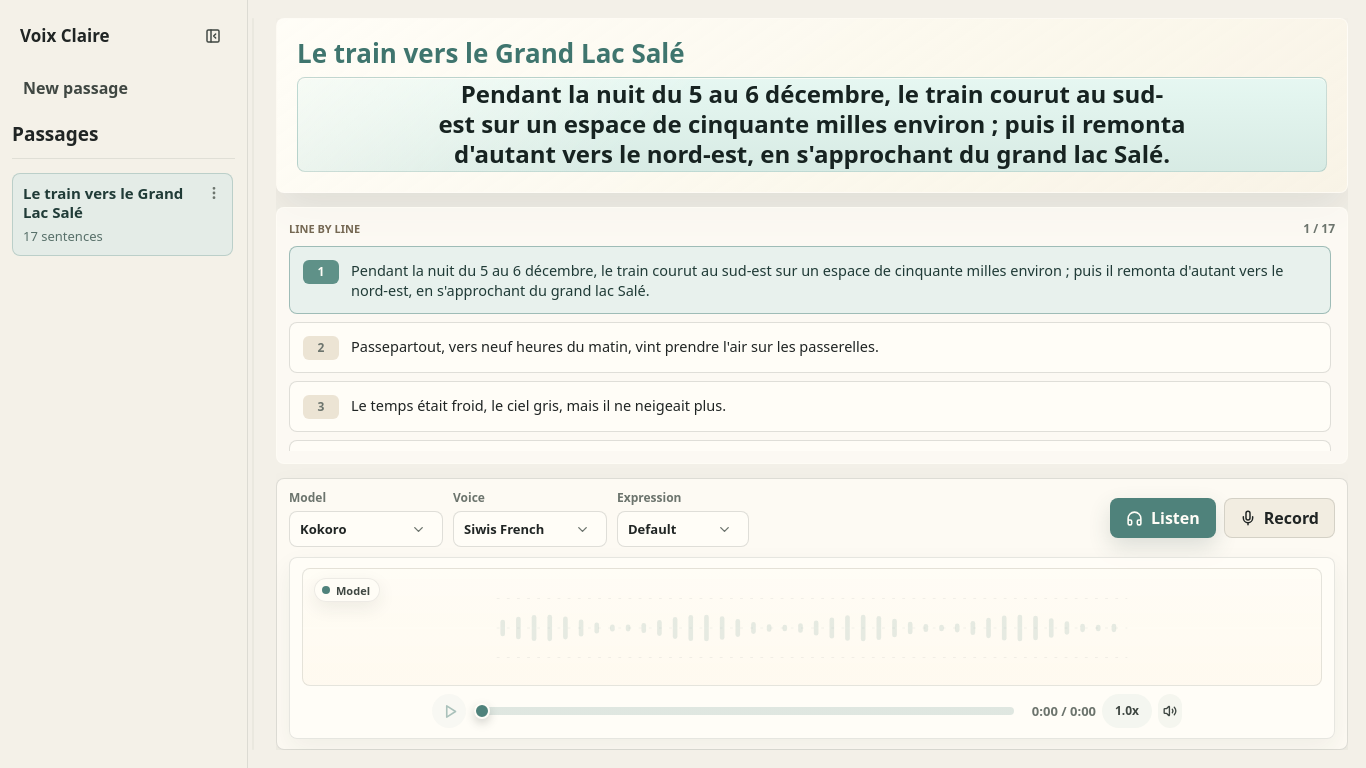
Test case: Passages sidebar › lets the user delete a saved passage
The image size is (1366, 768).
Click the button "New passage": (124, 89) [12,70,235,108]
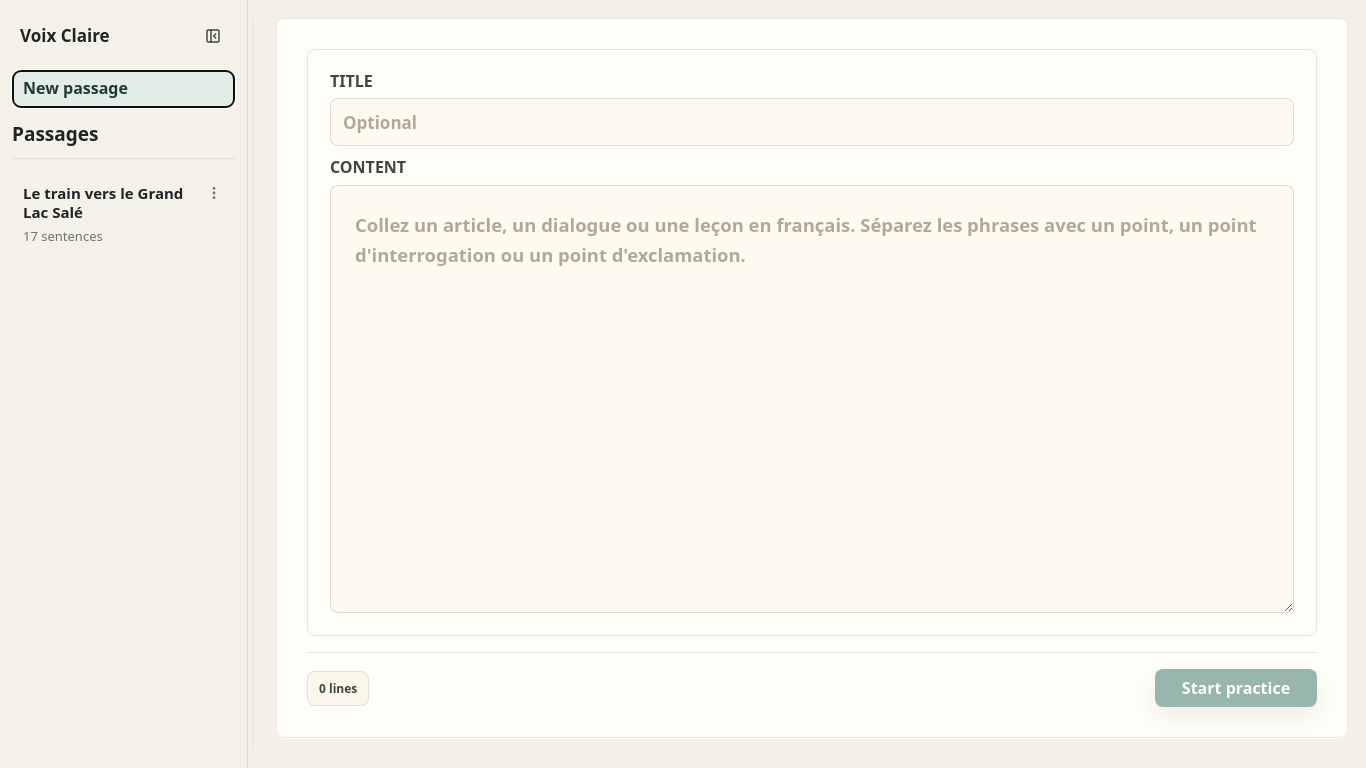
In the field labelled "Title": (812, 122) [330,98,1294,146], type "Cafe dialogue"
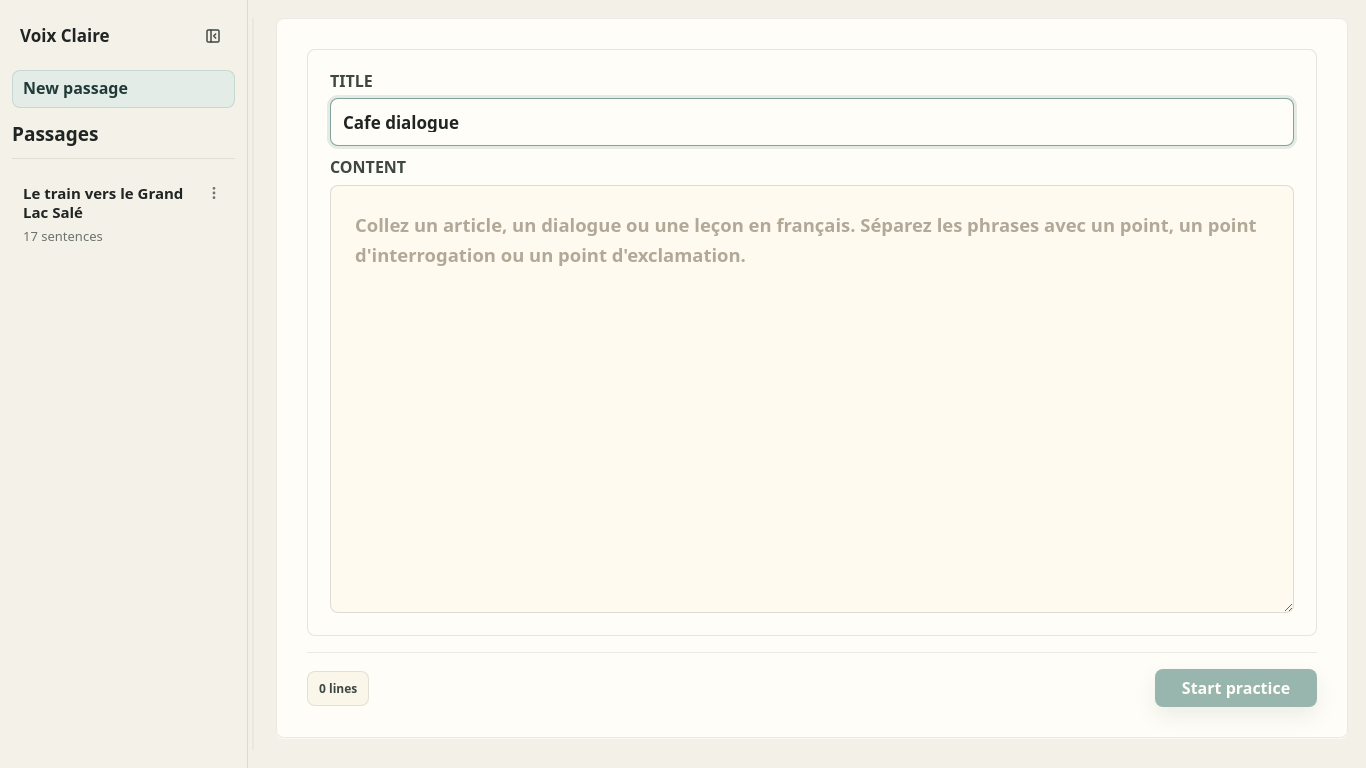
In the text box labelled "Content": (812, 399) [330,185,1294,613], type "Bonjour."
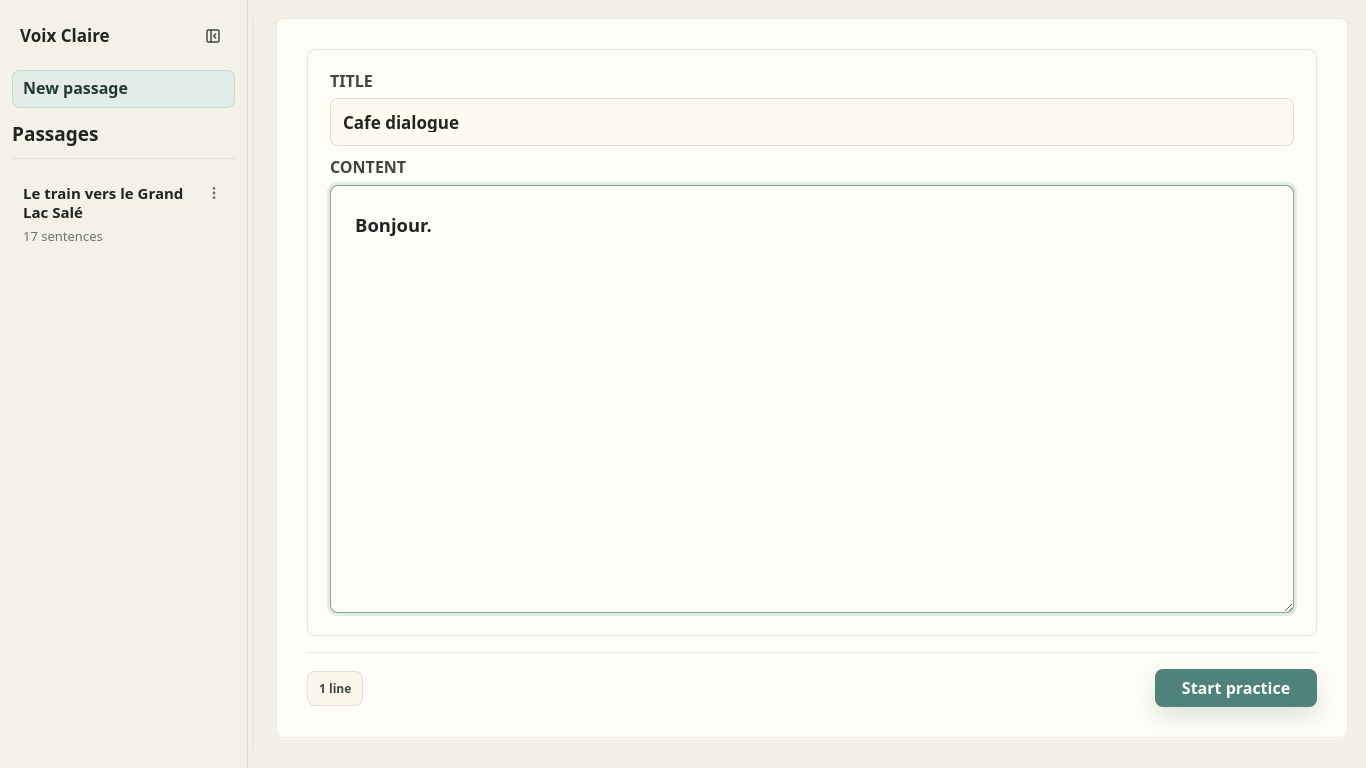
Click the button "Start practice": (1236, 688) [1155,669,1317,707]
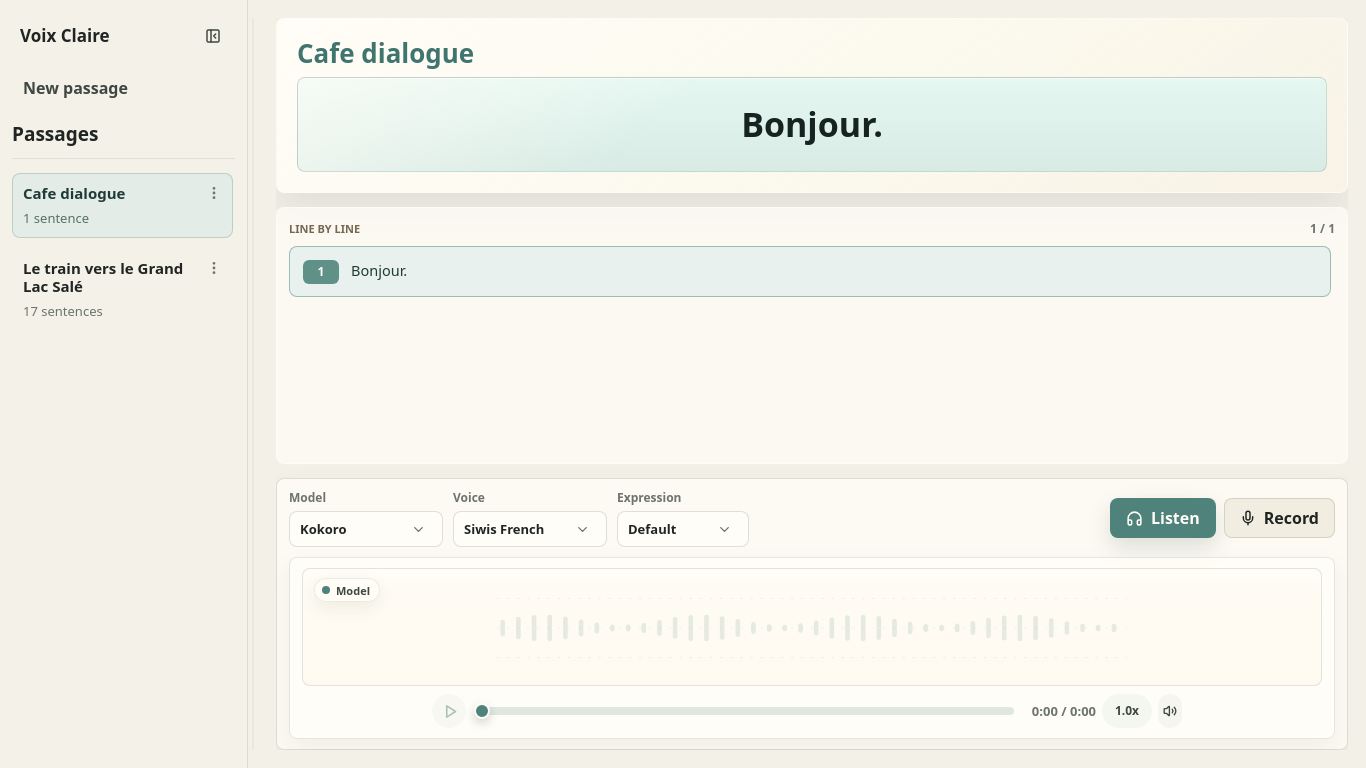
Click the button named "More options for Cafe dialogue": (213, 193) [199,179,227,207]
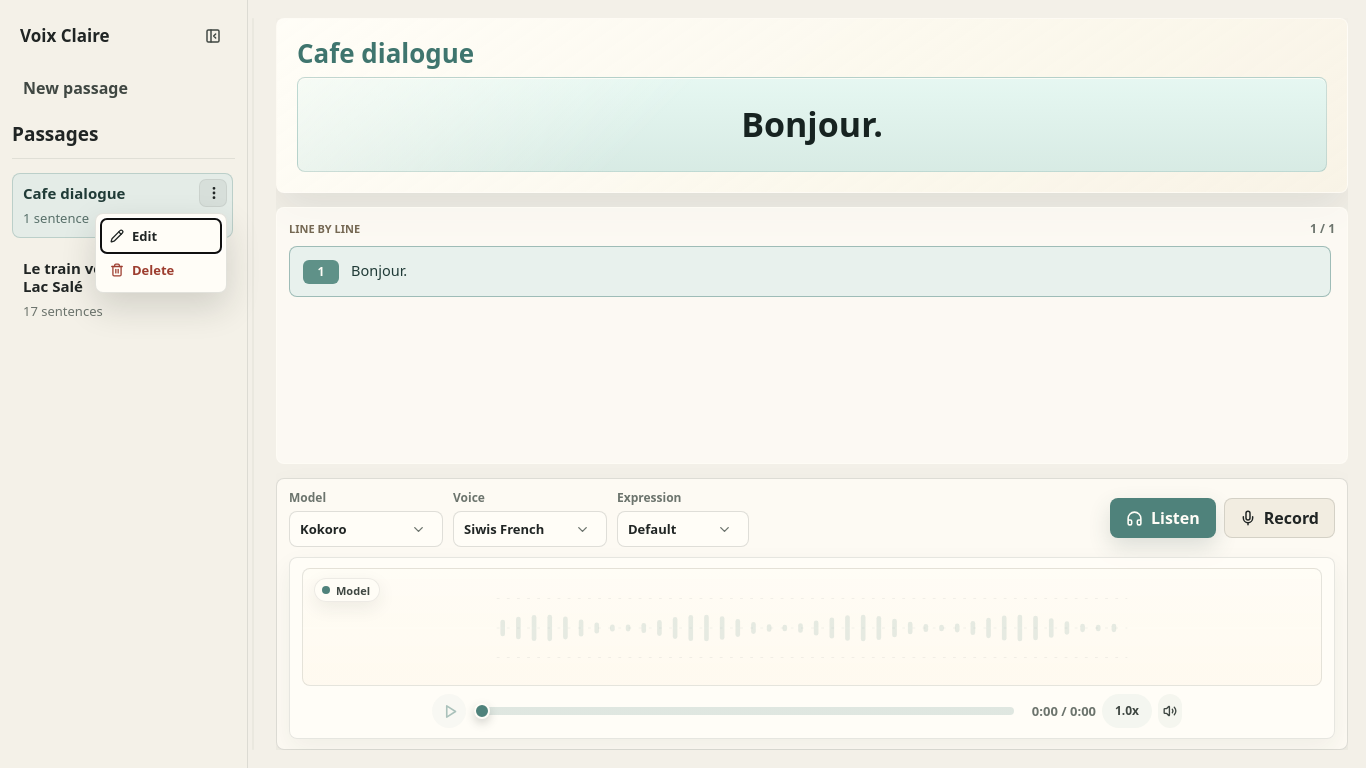
Click the menu item "Delete": (161, 270) [101,253,221,287]
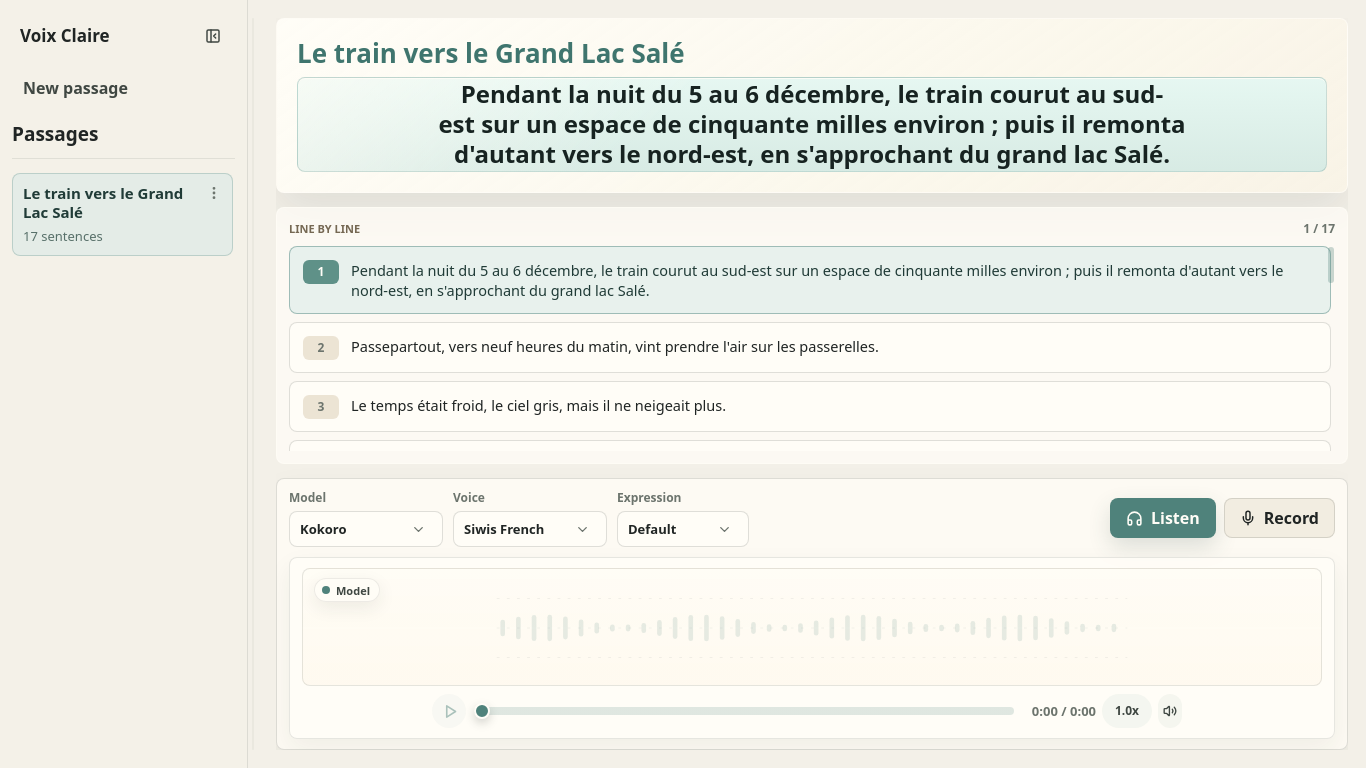
Now the 1st heading "Le train vers le Grand Lac Salé" is shown, box [297,35,685,71]
